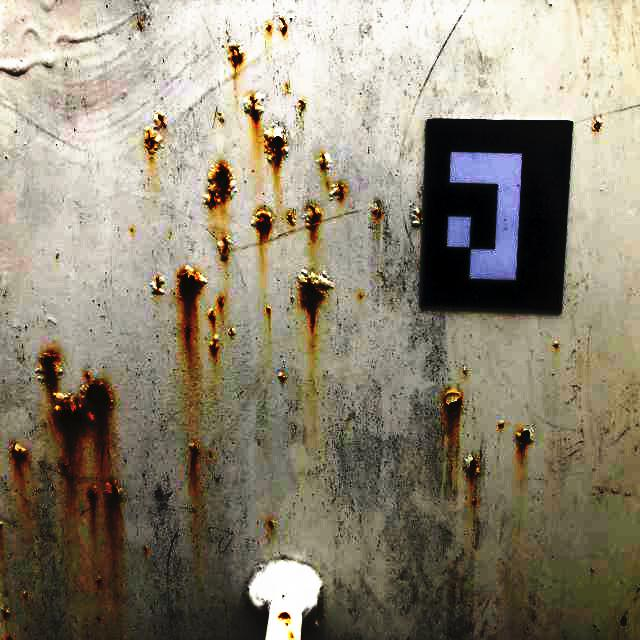Corrosion: (40, 350, 114, 439), (206, 162, 233, 206), (299, 270, 333, 304), (264, 127, 287, 164), (178, 267, 206, 297), (244, 93, 264, 120), (445, 391, 463, 414), (228, 41, 244, 66), (144, 127, 160, 152), (255, 209, 272, 232), (218, 235, 231, 260), (307, 205, 321, 228), (10, 444, 27, 462), (107, 484, 119, 506), (518, 430, 532, 448), (151, 276, 164, 294), (412, 208, 424, 226), (319, 153, 330, 170), (469, 458, 479, 476), (87, 488, 97, 506), (593, 116, 604, 132), (280, 15, 289, 34), (277, 613, 291, 624), (191, 444, 199, 458), (373, 207, 383, 218), (297, 98, 306, 110), (1, 609, 9, 622), (338, 184, 345, 198), (210, 341, 218, 352), (185, 326, 192, 338), (61, 464, 69, 474), (208, 309, 215, 320), (218, 296, 224, 308), (288, 632, 295, 640)
